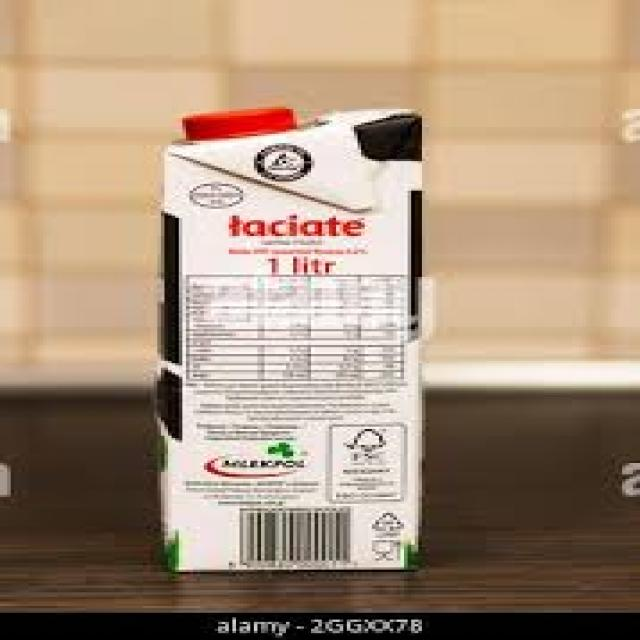non_white_jug: (150, 85, 444, 591)
